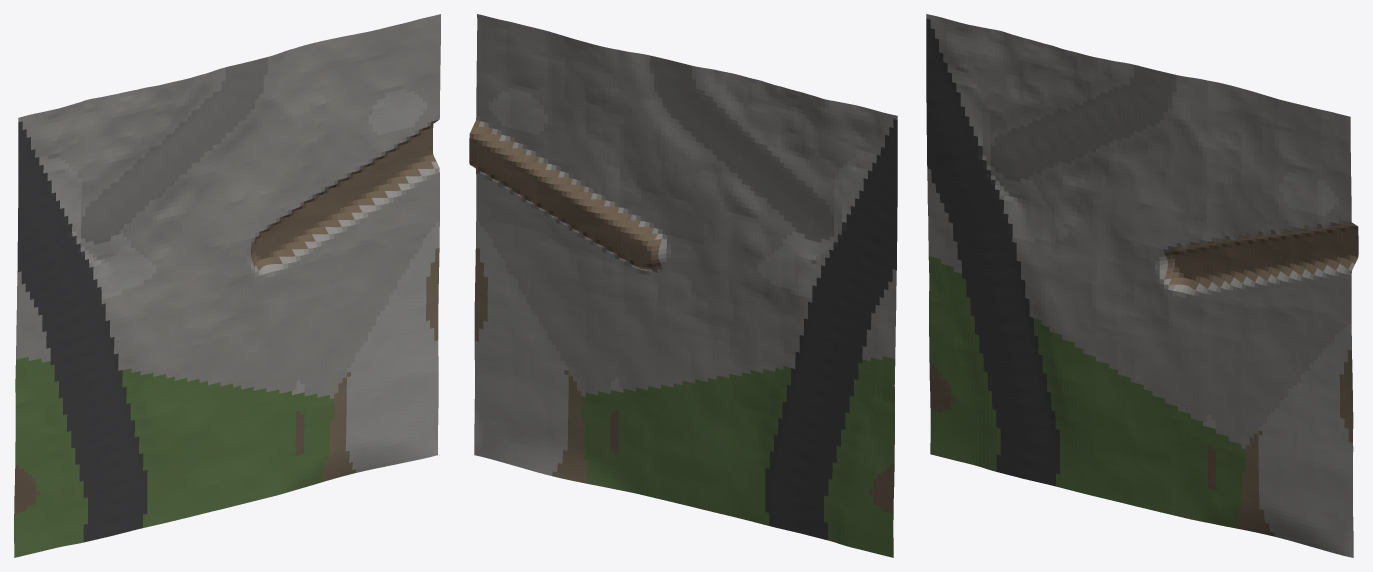
Rendered from SARM_SAR_Terrain_03_02.glb.
3 renders of one model, left to right at view 1: azimuth 30°, elevation 25°; view 2: azimuth 150°, elevation 25°; view 3: azimuth 330°, elevation 25°, orthographic.
Parts seen in each view (by area): view 1: SAR_Terrain_03_02.001; view 2: SAR_Terrain_03_02.001; view 3: SAR_Terrain_03_02.001.
Boxes of the visible parts, x1,y1,x2,y2 form: SAR_Terrain_03_02.001: (14, 14, 440, 557); SAR_Terrain_03_02.001: (469, 14, 897, 557); SAR_Terrain_03_02.001: (926, 14, 1358, 557).
Size of the model in its own units: 50 by 50 by 2.25.
